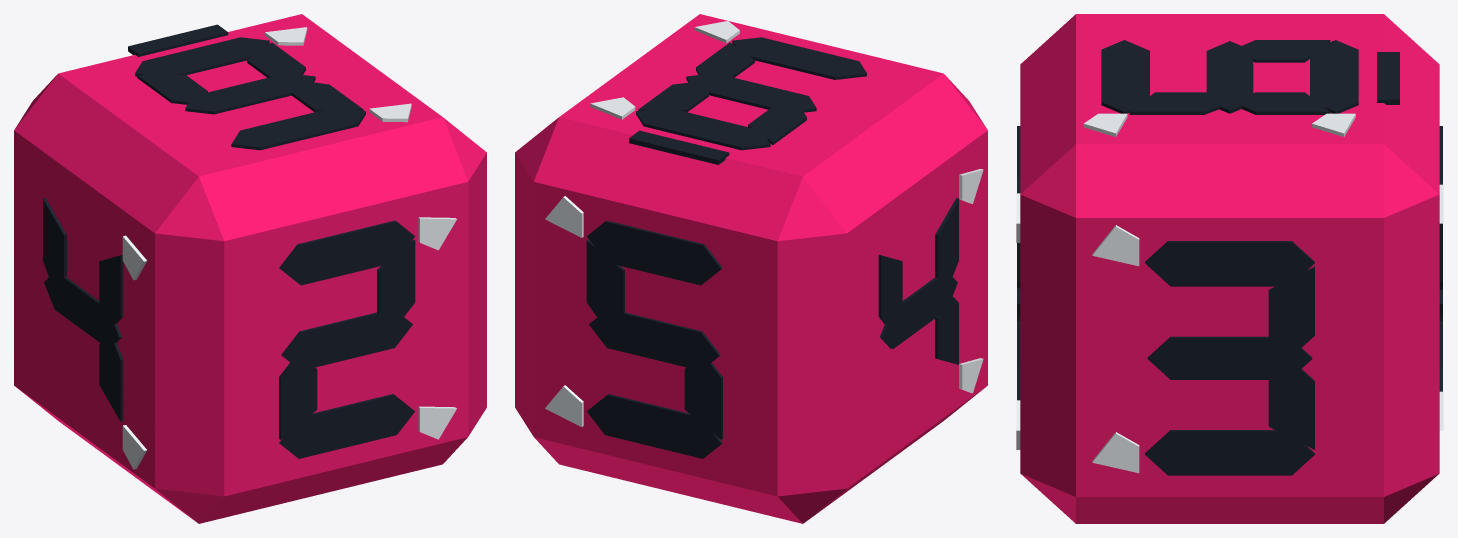
3 views of the same model, side by side, from view 1: azimuth 30°, elevation 25°; view 2: azimuth 150°, elevation 25°; view 3: azimuth 270°, elevation 25° (orthographic). The views are drawn at different scales.
Parts seen in each view (by area): view 1: CUTLINE d6 canonical sculpture; view 2: CUTLINE d6 canonical sculpture; view 3: CUTLINE d6 canonical sculpture.
Boxes of the visible parts, box(x1,y1,x2,y2) form: CUTLINE d6 canonical sculpture: box(14, 14, 486, 523); CUTLINE d6 canonical sculpture: box(515, 14, 987, 523); CUTLINE d6 canonical sculpture: box(1016, 14, 1443, 523).
Size of the model in its own units: 1.12 by 1.12 by 1.12.
